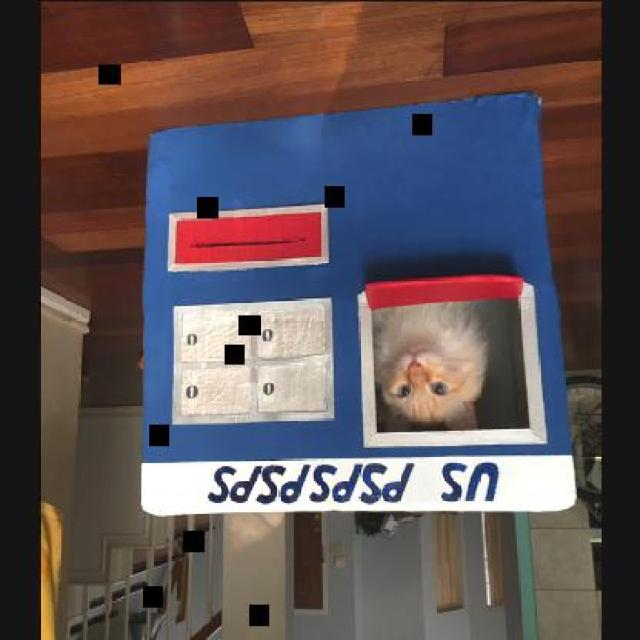unauthorized: (371, 300, 489, 432)
